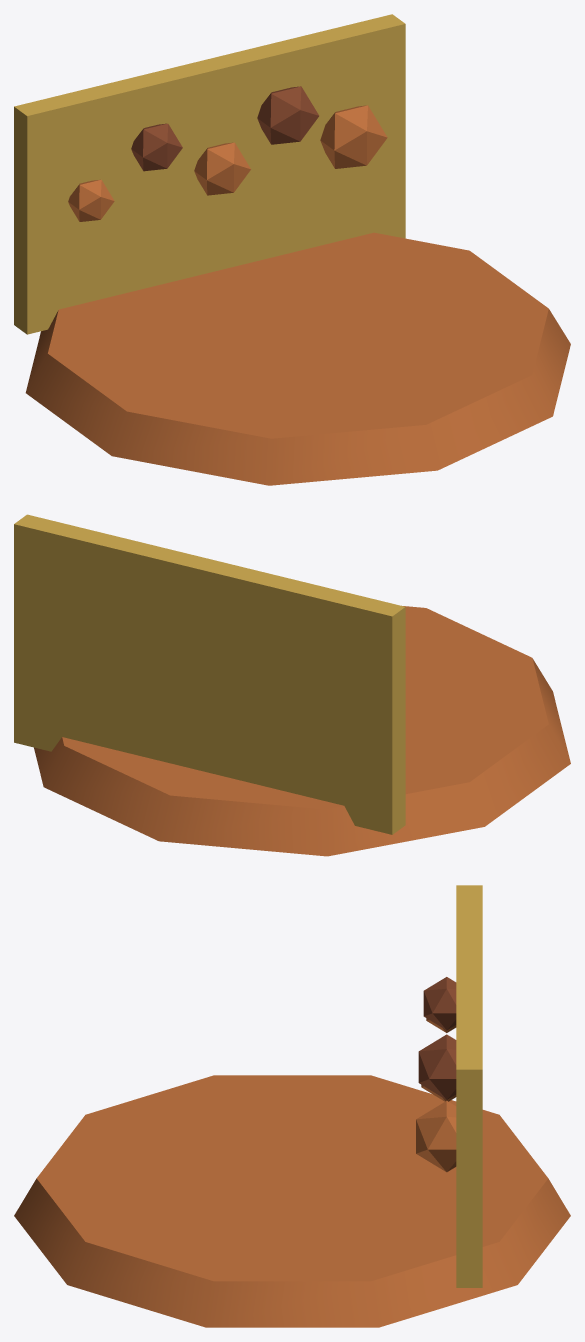
The model's file is stage.glb.
The picture shows the model from 3 angles, top to bottom: view 1: azimuth 30°, elevation 25°; view 2: azimuth 150°, elevation 25°; view 3: azimuth 270°, elevation 25°; orthographic projection.
Parts seen in each view (by area): view 1: stage_base, stage_backdrop, stage_emblem_4, stage_emblem_3, stage_emblem_2, stage_emblem_1, stage_emblem_0; view 2: stage_backdrop, stage_base; view 3: stage_base, stage_backdrop, stage_emblem_4, stage_emblem_3, stage_emblem_1.
Boxes of the visible parts, box(x1,y1,x2,y2) form: stage_base: box(25, 232, 570, 485); stage_backdrop: box(14, 14, 405, 334); stage_emblem_4: box(320, 105, 387, 168); stage_emblem_3: box(257, 86, 319, 144); stage_emblem_2: box(194, 142, 250, 195); stage_emblem_1: box(131, 123, 182, 171); stage_emblem_0: box(68, 179, 114, 221); stage_backdrop: box(14, 514, 405, 834); stage_base: box(34, 606, 570, 856); stage_base: box(14, 1075, 570, 1327); stage_backdrop: box(456, 885, 482, 1287); stage_emblem_4: box(416, 1101, 456, 1172); stage_emblem_3: box(418, 1034, 456, 1099); stage_emblem_1: box(423, 977, 456, 1030).
Size of what is drawn, in the model's own units: 7.04 by 3.5 by 7.4.
